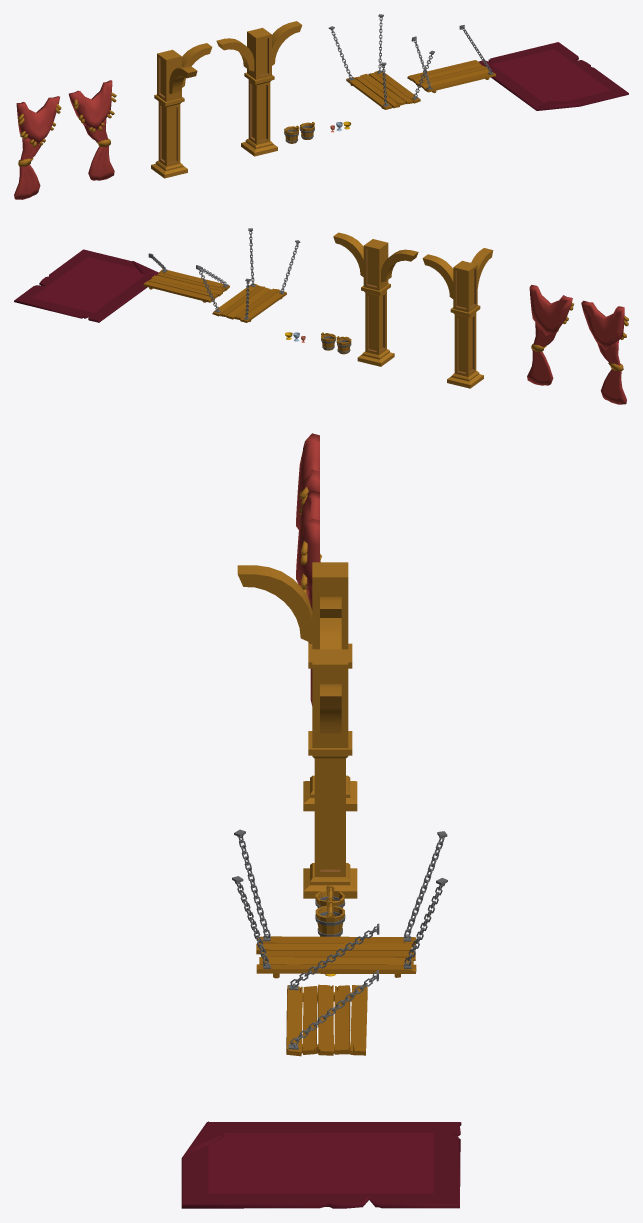
Rendered from modelos_semana_6.fbx.
The picture shows the model from 3 angles, top to bottom: view 1: azimuth 30°, elevation 25°; view 2: azimuth 150°, elevation 25°; view 3: azimuth 270°, elevation 25°; orthographic projection. The views are drawn at different scales.
Visible parts, largest first — view 1: Tapete, Pilar, Pilar_L, Cortina, Cortina.001, Bancada_Teto, Bancada_Parede; view 2: Tapete, Pilar_L, Pilar, Cortina, Cortina.001, Bancada_Parede, Bancada_Teto; view 3: Tapete, Pilar, Bancada_Teto, Pilar_L, Bancada_Parede, Cortina.001, Cortina.
Part boxes in pixels (x1,y1,x2,y2): Tapete: (478,42,628,110); Pilar: (216,21,302,156); Pilar_L: (151,43,212,178); Cortina: (14,96,61,199); Cortina.001: (68,80,116,180); Bancada_Teto: (328,14,434,109); Bancada_Parede: (407,25,495,93); Tapete: (14,249,158,322); Pilar_L: (422,248,493,388); Pilar: (333,232,418,366); Cortina: (581,300,628,404); Cortina.001: (527,285,573,385); Bancada_Parede: (143,253,229,302); Bancada_Teto: (197,228,300,322); Tapete: (181,1121,461,1208); Pilar: (303,618,357,898); Bancada_Teto: (232,829,447,978); Pilar_L: (237,562,357,811); Bancada_Parede: (286,923,379,1056); Cortina.001: (296,490,319,705); Cortina: (296,433,321,562).
Bounding box in the file's own units: 3358 × 644 × 704.
